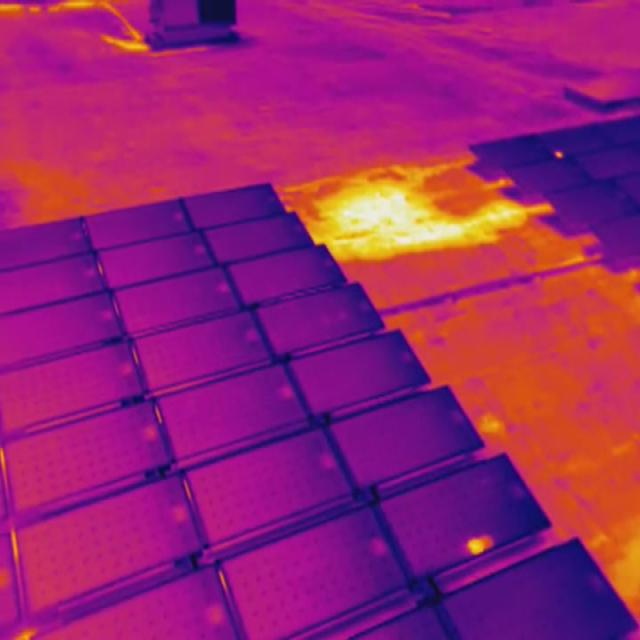Orange-Spots: (466, 534, 495, 556), (555, 150, 564, 158)
